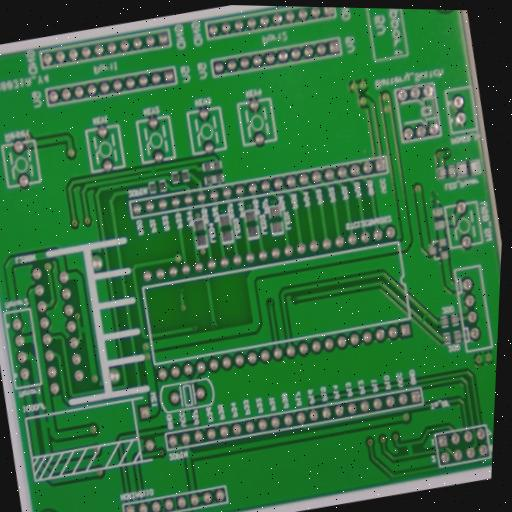short_circuit: (399, 437, 420, 461), (38, 413, 56, 435), (415, 308, 435, 327), (75, 320, 93, 341), (144, 161, 164, 179)
